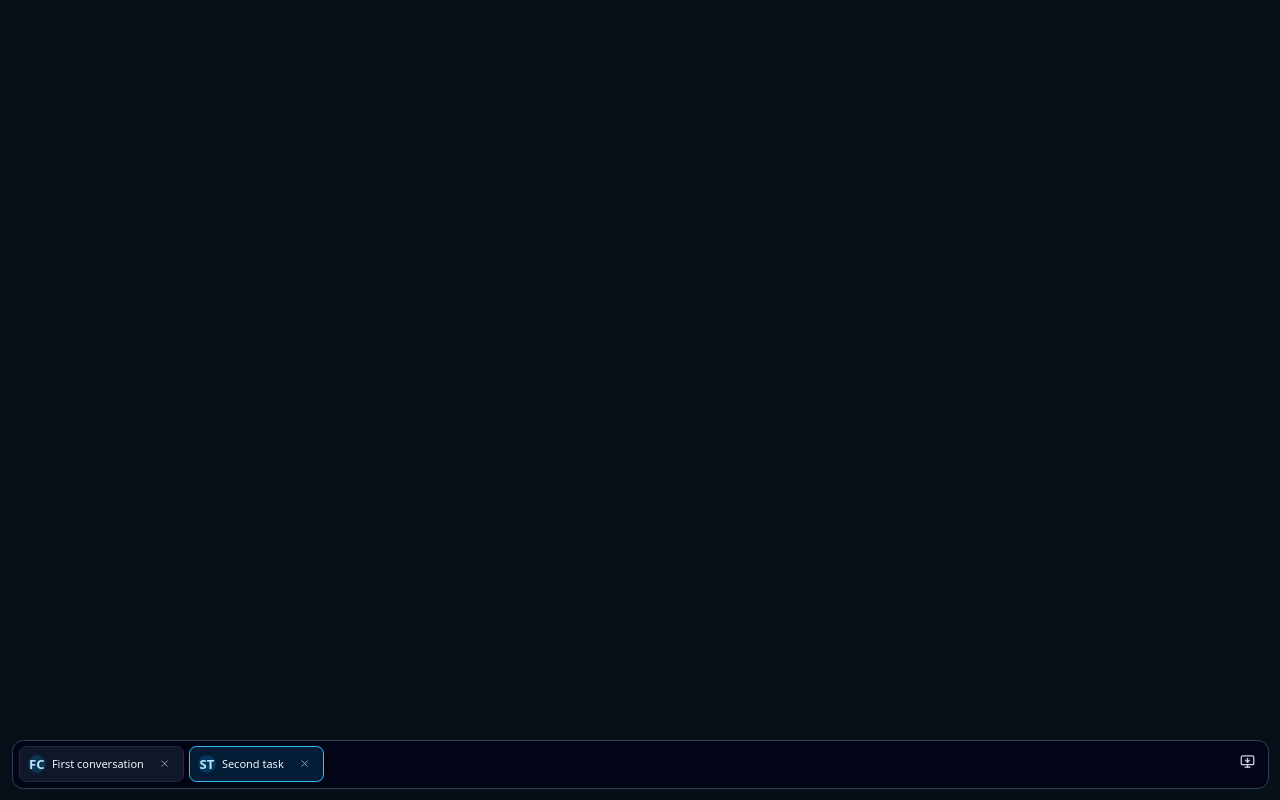
WorkspaceDock › restores the exact visual and persisted order when Escape cancels a drag
Step 1. Press the mouse on the button with test id "workspace-dock-restore-conversation:conversation-1" → (85, 764), box [23, 749, 147, 779]
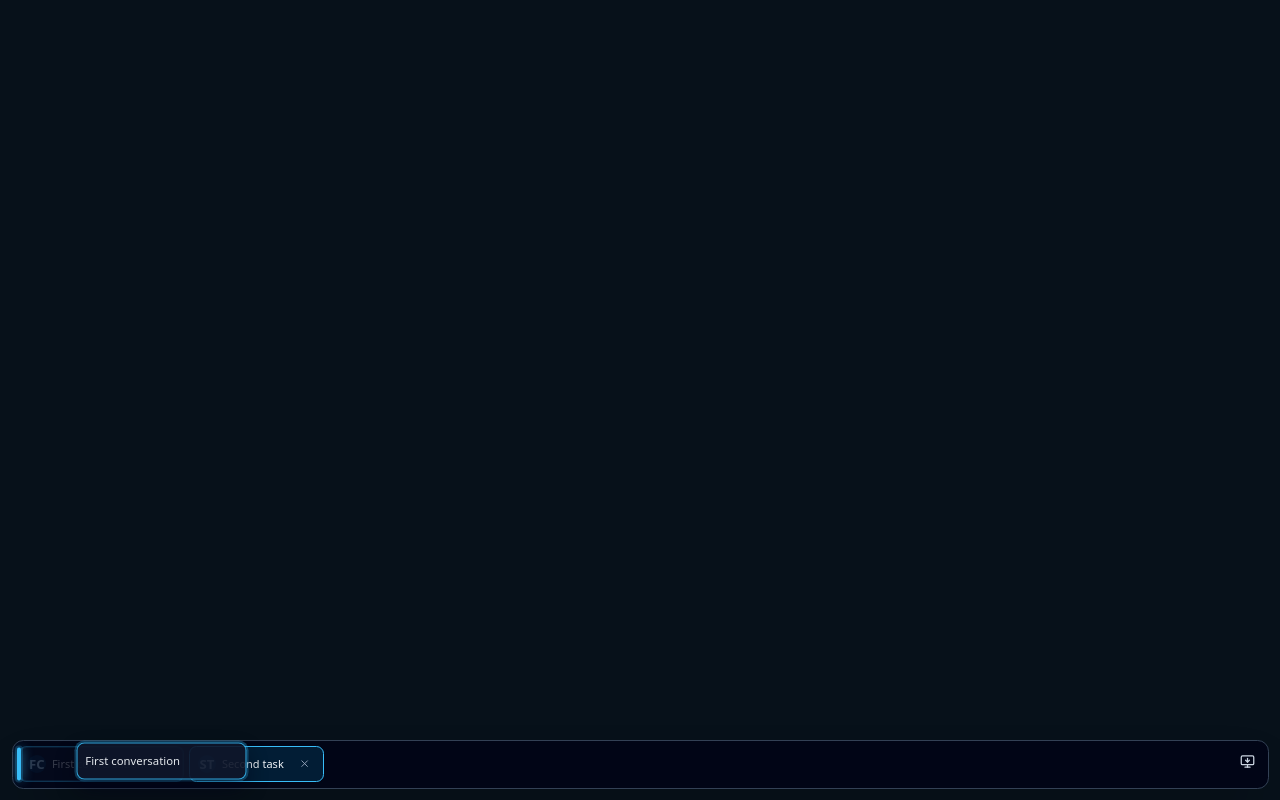
Check: the navigation bar with test id "workspace-dock" has attribute data-dragging="true", box [12, 740, 1269, 789]
Step 2. Press Escape
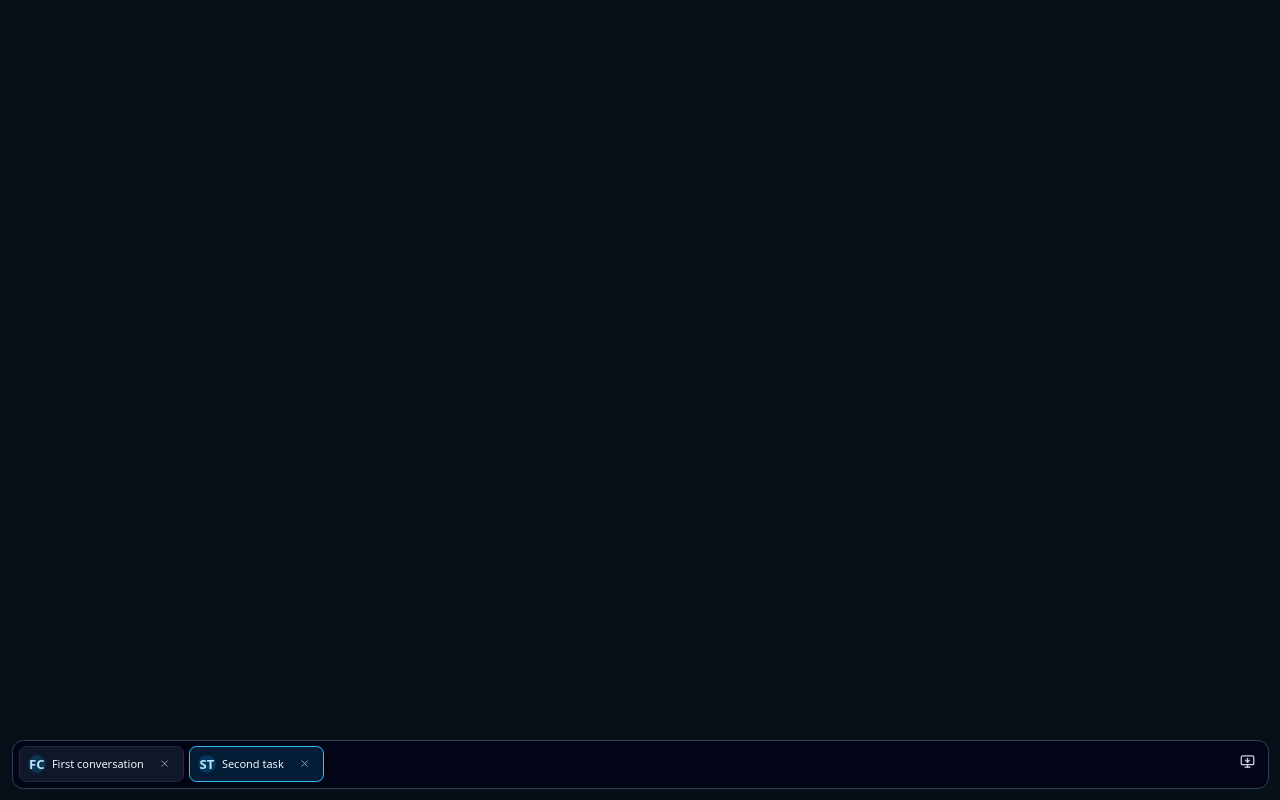
Check: the element with test id "workspace-dock-drag-ghost" is gone
Check: the element with test id "workspace-dock-drop-indicator" is gone
